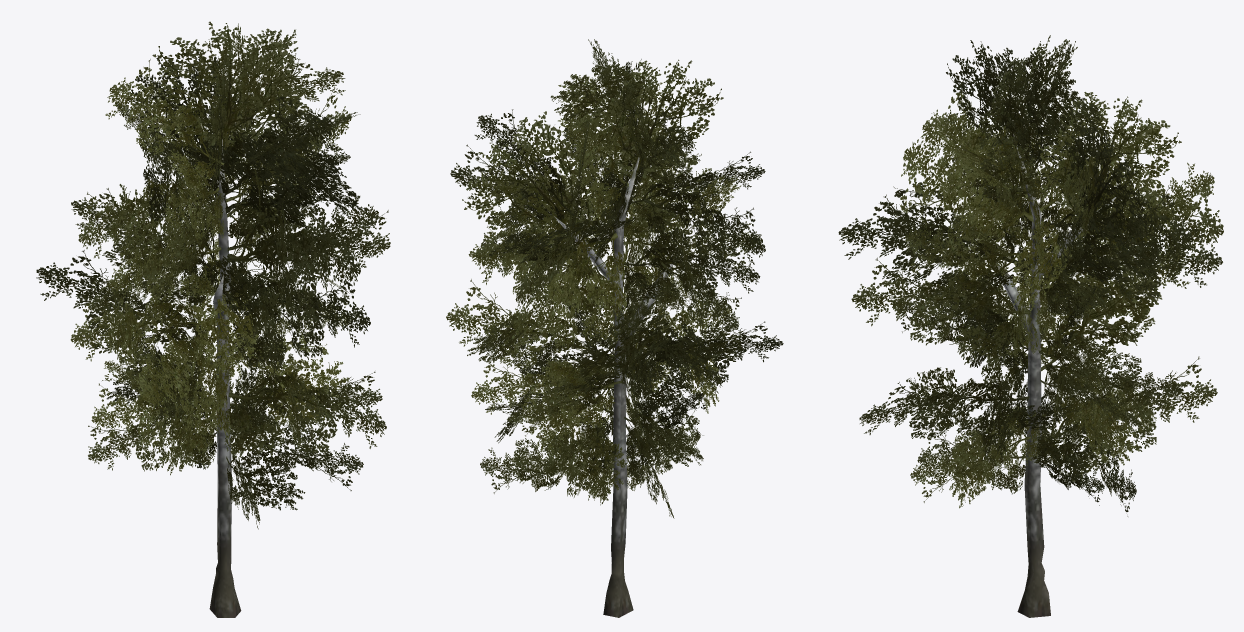
Rendered from tree_leaf.glb.
3 views of the same model, side by side, from view 1: azimuth 30°, elevation 25°; view 2: azimuth 150°, elevation 25°; view 3: azimuth 270°, elevation 25° (orthographic). The views are drawn at different scales.
Visible parts, largest first — view 1: leaves, trunk; view 2: leaves, trunk; view 3: leaves, trunk.
Part boxes in pixels (x1,y1,x2,y2): leaves: (36, 21, 390, 529); trunk: (209, 139, 241, 617); leaves: (446, 39, 783, 518); trunk: (554, 157, 682, 617); leaves: (838, 35, 1223, 516); trunk: (976, 134, 1116, 617).
Bounding box in the file's own units: 0.7136 × 1.28 × 0.8265.
2 materials, 2 textured.
